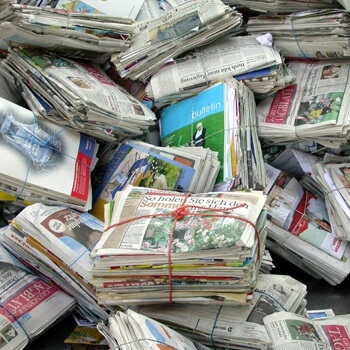paper: (86, 172, 276, 319), (1, 35, 164, 155), (2, 199, 131, 323), (130, 270, 314, 345), (151, 76, 269, 192), (88, 134, 223, 232), (99, 1, 251, 87), (143, 24, 300, 107), (247, 164, 350, 286), (1, 97, 104, 217), (243, 53, 350, 154), (4, 1, 135, 59), (85, 307, 204, 350), (254, 312, 350, 350)
